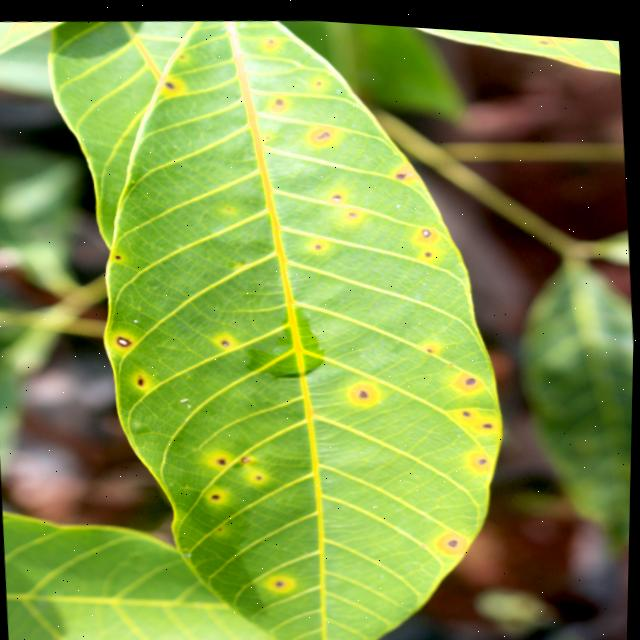Colletotrichum: (117, 334, 133, 345), (421, 223, 430, 231)
